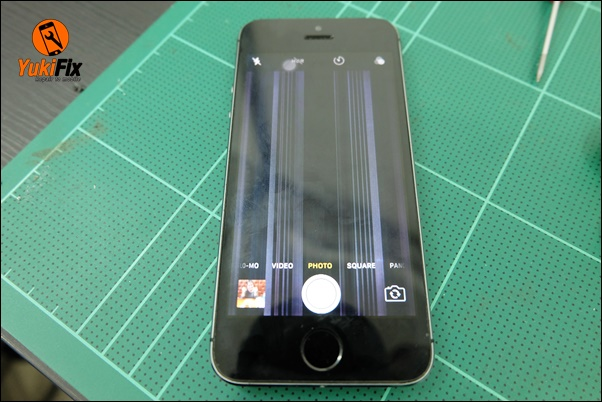Phone: (206, 16, 436, 387)
